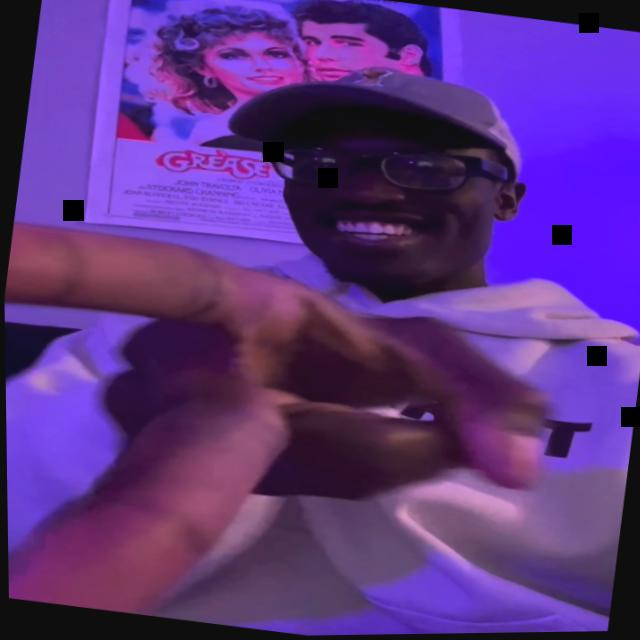Scissors: (3, 212, 584, 640)
